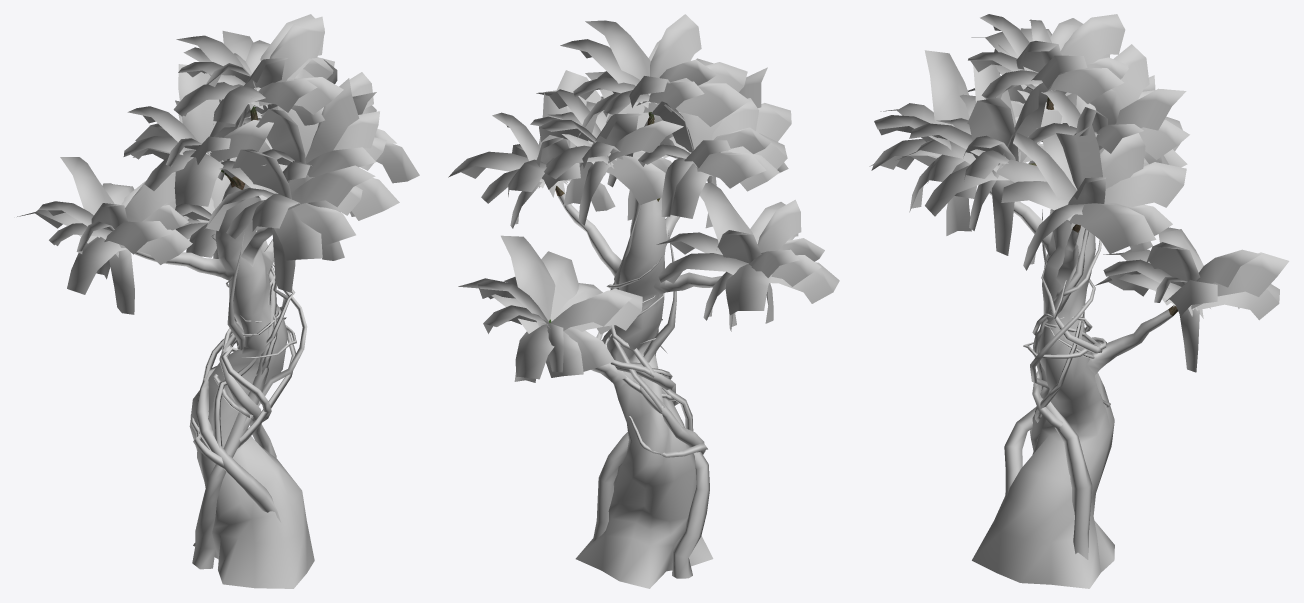
Rendered from Plant6_2_L2.fbx.
3 renders of one model, left to right at view 1: azimuth 30°, elevation 25°; view 2: azimuth 150°, elevation 25°; view 3: azimuth 270°, elevation 25°, orthographic. The views are drawn at different scales.
Visible parts, largest first — view 1: polySurface2195; view 2: polySurface2195; view 3: polySurface2195.
Boxes of the visible parts, left/top/right/bottom form: polySurface2195: left=17, top=14, right=419, bottom=588; polySurface2195: left=448, top=14, right=839, bottom=588; polySurface2195: left=869, top=14, right=1289, bottom=588.
Bounding box in the file's own units: 634 × 926 × 649.
